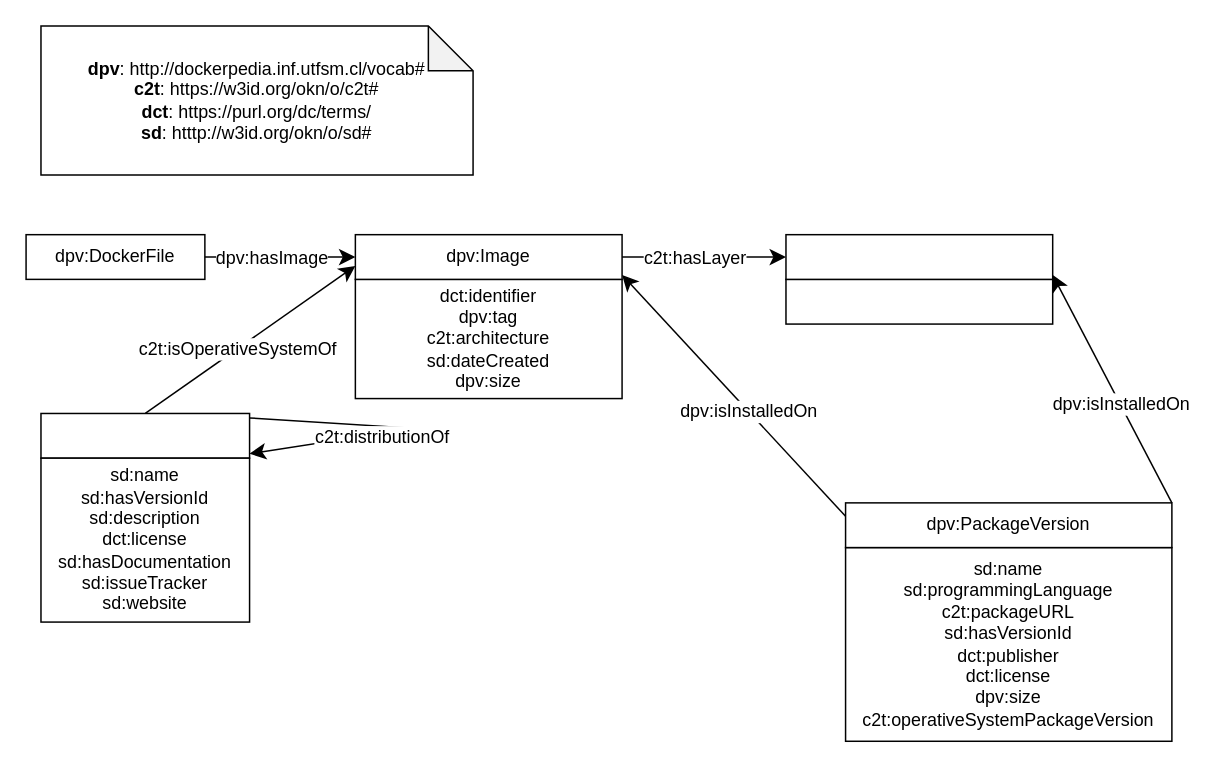
This 1216x767 diagram has some shape labels left out. Here are the shapes that lost their labels. From the top down, the centre of each, then its label:
At pixel 918 256: "dpv:ImageLayer".
At pixel 918 301: "dct:identifier".
At pixel 144 435: "dpv:OperatingSystem".
